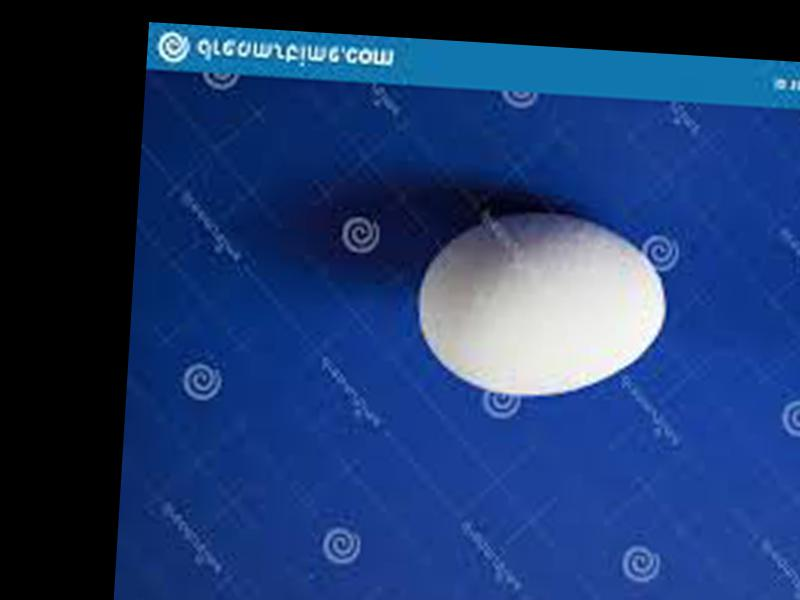Eggs: (412, 205, 671, 402)
